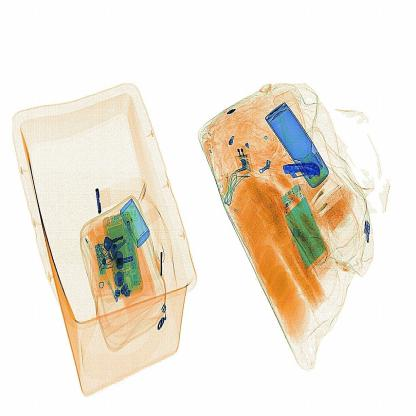knife: (280, 154, 333, 187)
